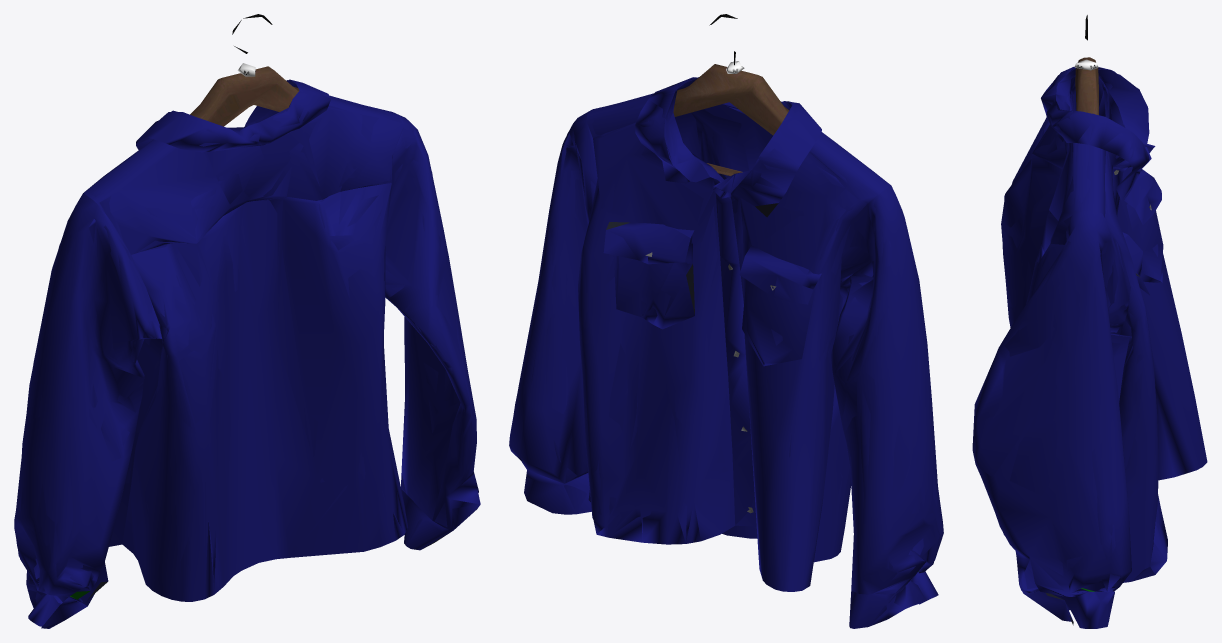
Rendered from shirt.gltf.
The picture shows the model from 3 angles, left to right: view 1: azimuth 30°, elevation 25°; view 2: azimuth 150°, elevation 25°; view 3: azimuth 270°, elevation 25°; orthographic projection. The views are drawn at different scales.
Parts seen in each view (by area): view 1: 3DGeom~110_Defintion, 3DGeom~111_Defintion; view 2: 3DGeom~110_Defintion, 3DGeom~111_Defintion; view 3: 3DGeom~110_Defintion, 3DGeom~111_Defintion.
Part boxes in pixels (left/top/right/bottom): 3DGeom~110_Defintion: left=14, top=79, right=480, bottom=628; 3DGeom~111_Defintion: left=190, top=66, right=299, bottom=126; 3DGeom~110_Defintion: left=509, top=77, right=943, bottom=628; 3DGeom~111_Defintion: left=673, top=64, right=788, bottom=175; 3DGeom~110_Defintion: left=972, top=66, right=1207, bottom=628; 3DGeom~111_Defintion: left=1075, top=57, right=1098, bottom=115.
Bounding box in the file's own units: 0.701 × 0.8744 × 0.3463.
Materials: 8 (3 with a texture image).
